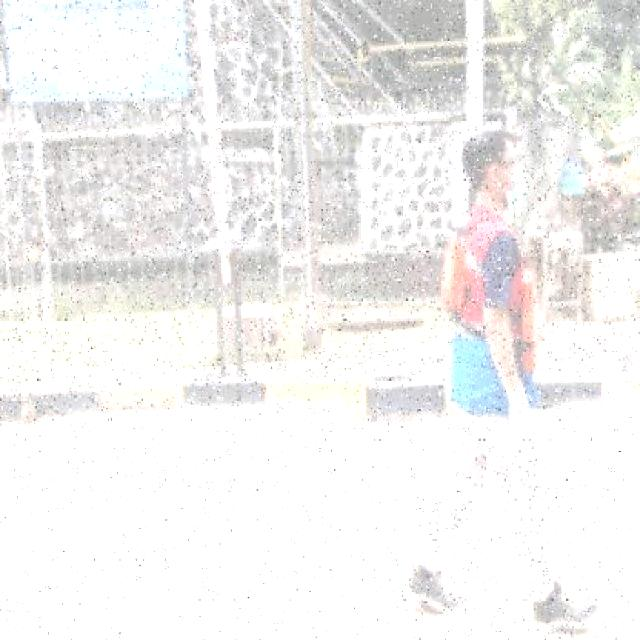Boots: (529, 576, 600, 636), (398, 564, 464, 618)
Gloves: (504, 388, 534, 450)
Mask: (440, 231, 548, 374)
